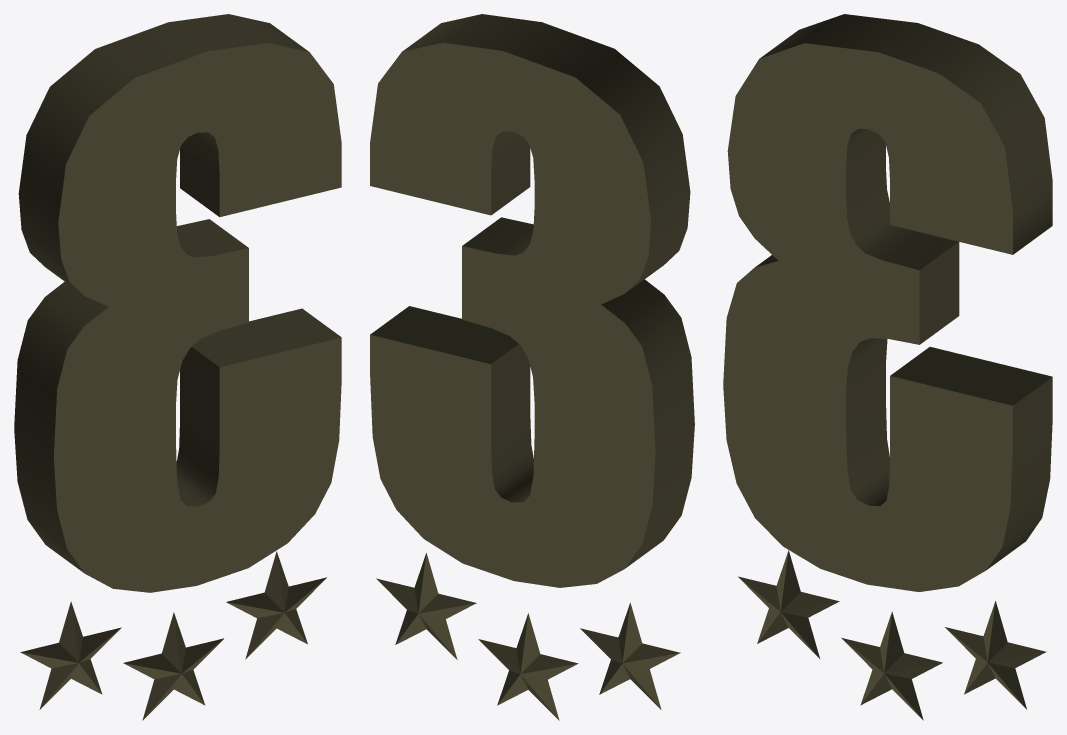
File: codicon.icn.obj
3 renders of one model, left to right at view 1: azimuth 30°, elevation 25°; view 2: azimuth 150°, elevation 25°; view 3: azimuth 330°, elevation 25°, orthographic.
Size of the model in its own units: 2.25 by 4.72 by 0.5005.
